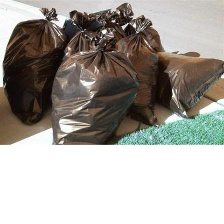plastic_bag: (45, 29, 143, 145), (0, 5, 71, 129), (110, 16, 164, 129), (149, 48, 224, 120), (60, 7, 118, 62)
